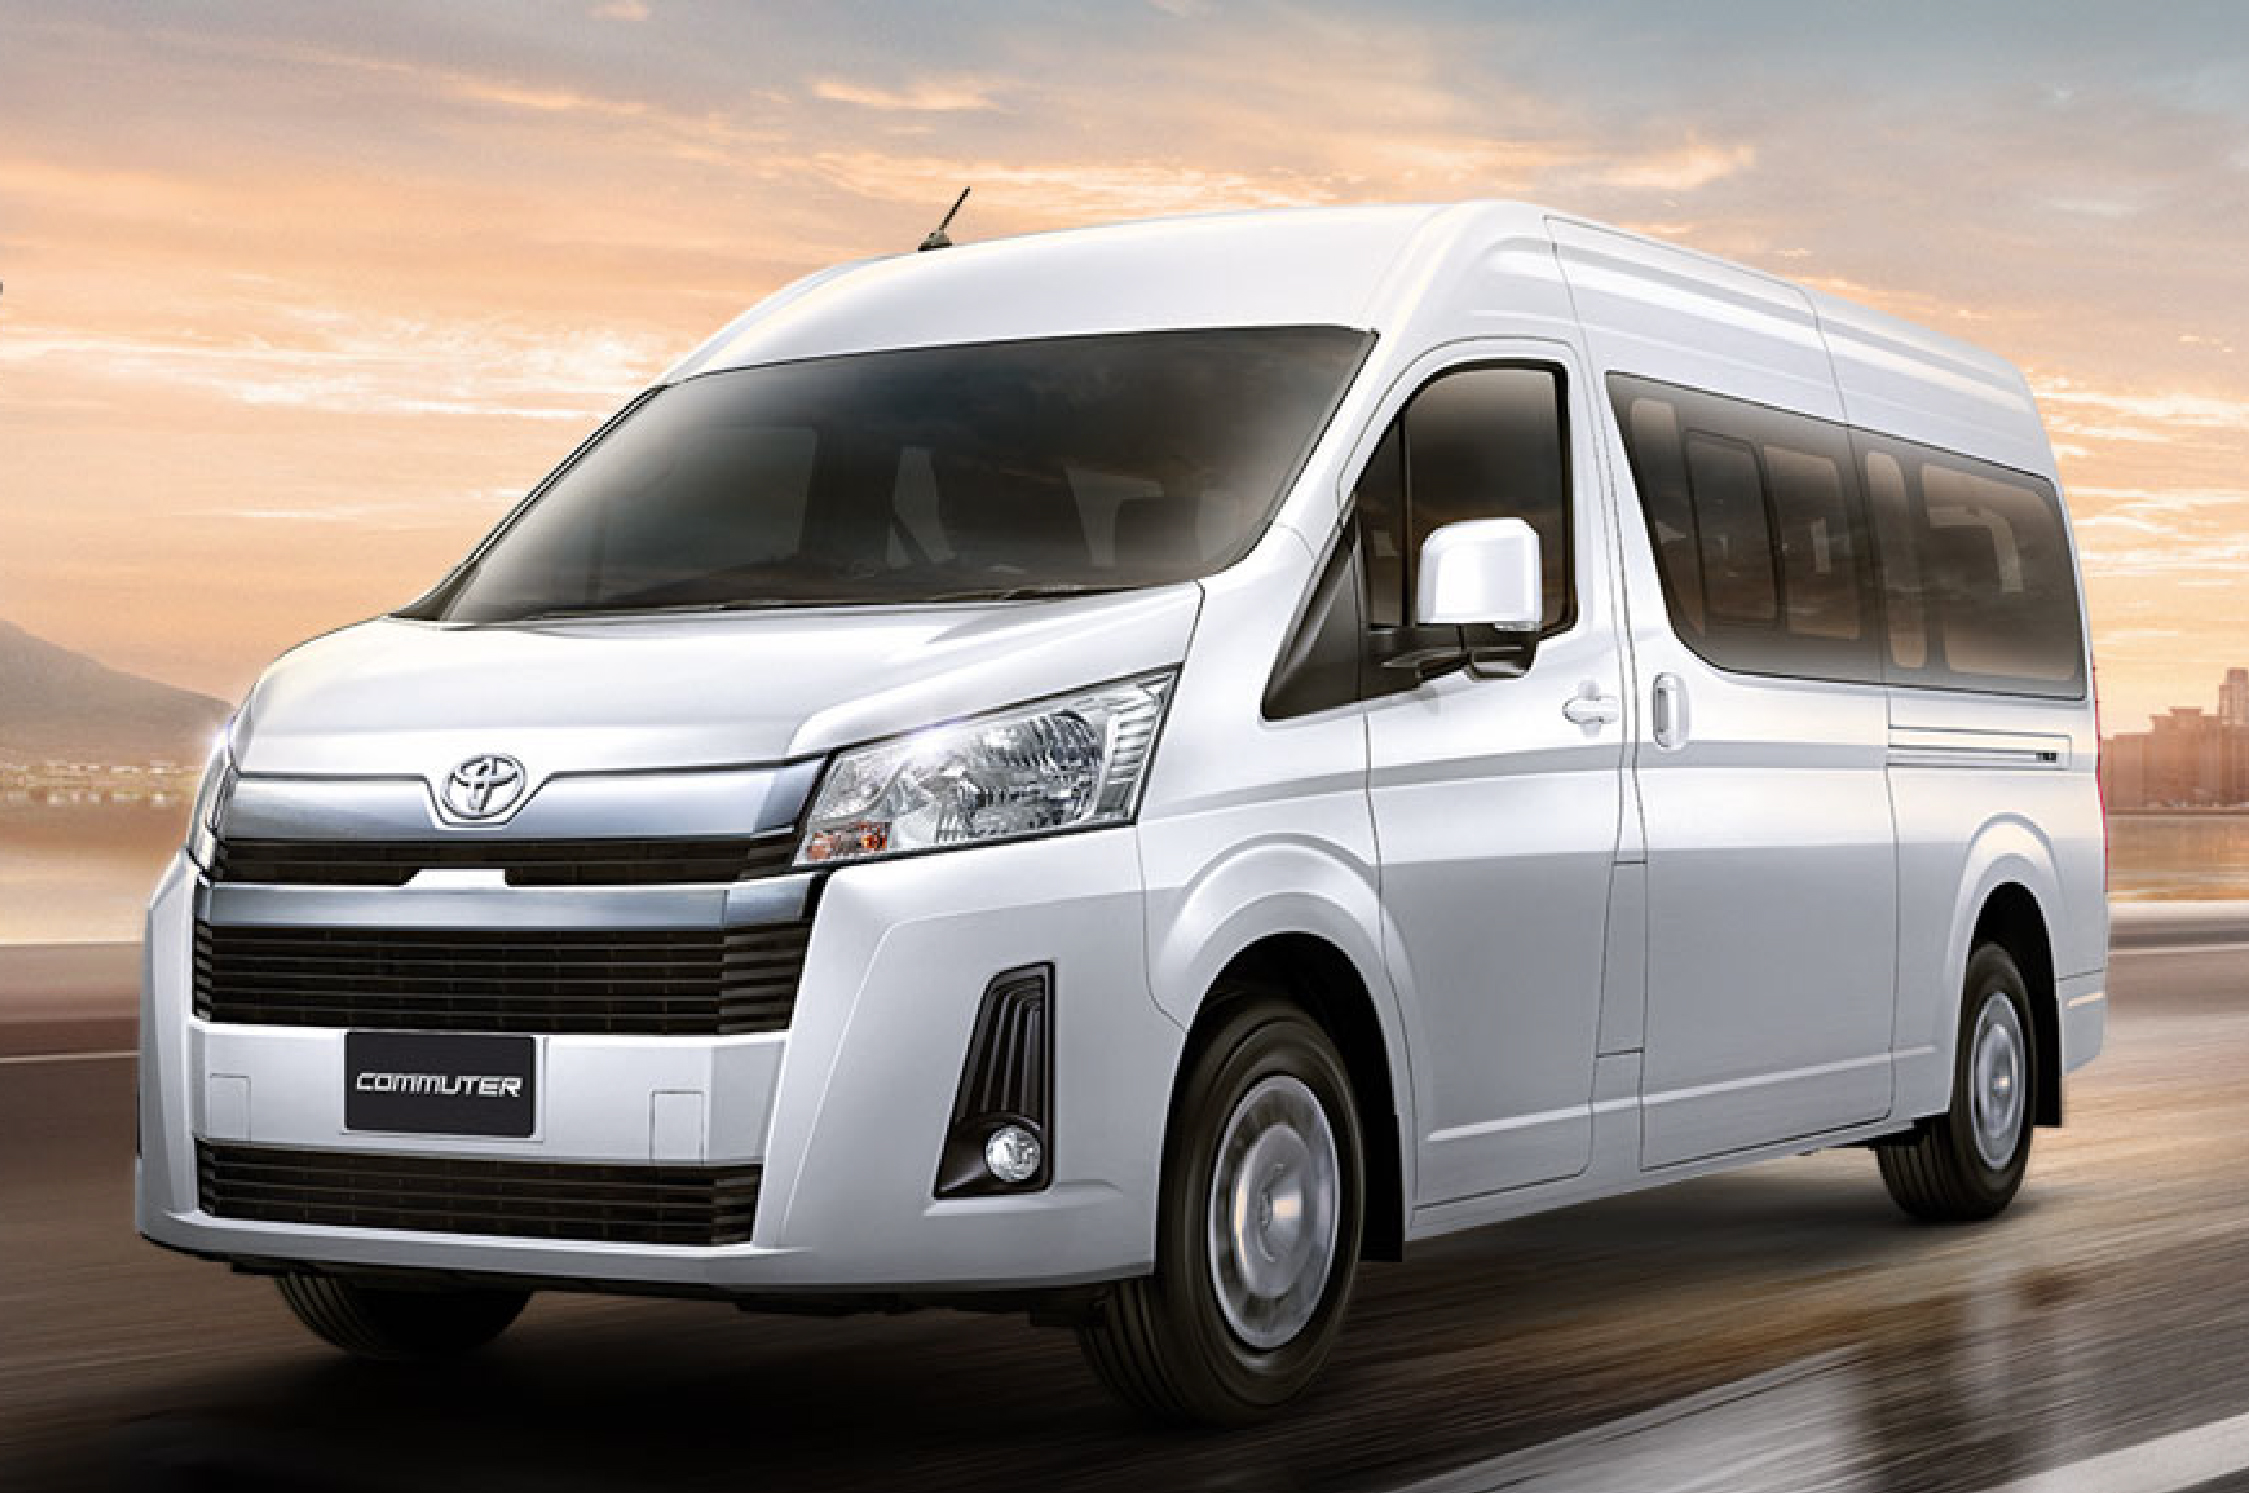van: (132, 185, 2119, 1428)
